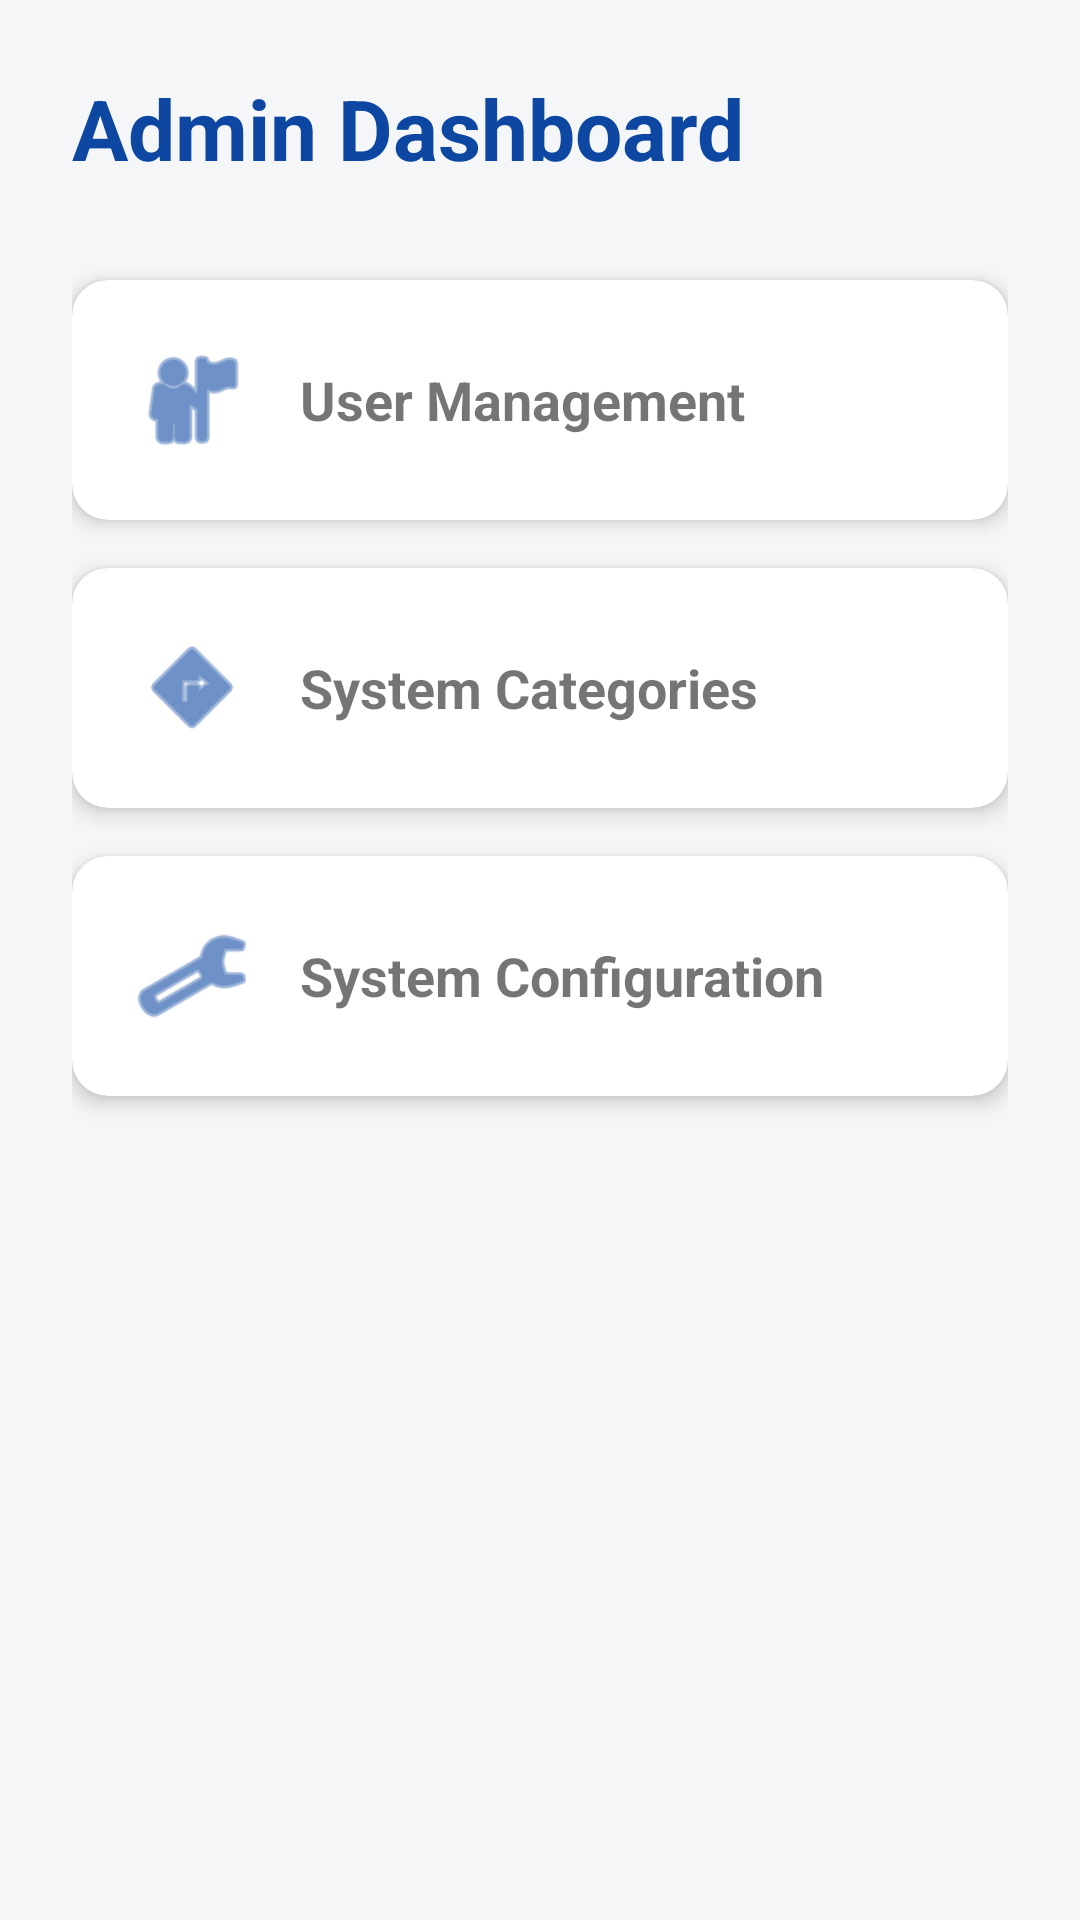

Icons on this 1080 × 1920 Android screen, each with the point to tap as (x=x, y=y):
directions: (x=192, y=687)
manage: (x=192, y=976)
myplaces: (x=193, y=400)
